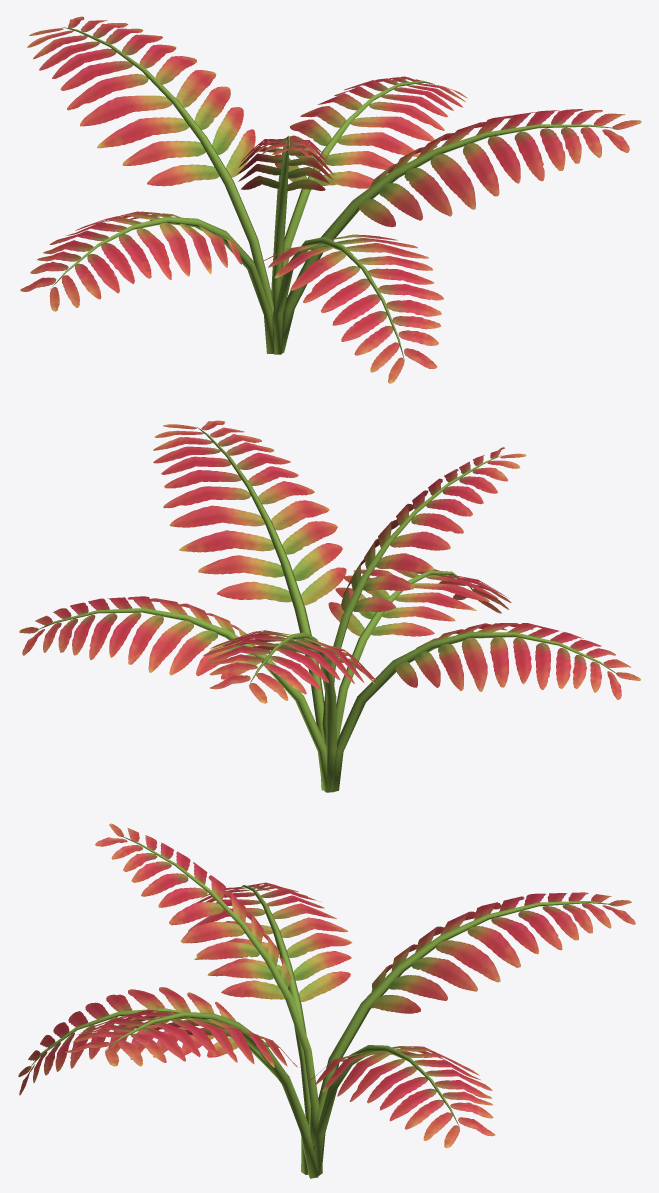
Rendered from P_RedFern01.obj.
3 renders of one model, top to bottom at view 1: azimuth 30°, elevation 25°; view 2: azimuth 150°, elevation 25°; view 3: azimuth 270°, elevation 25°, orthographic. The views are drawn at different scales.
Size of the model in its own units: 4.6 by 2.35 by 4.43.
